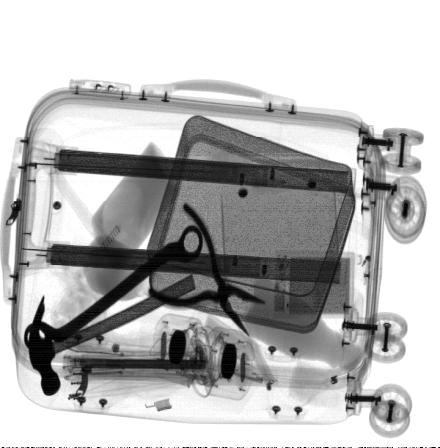Hammer: (27, 272, 197, 397)
Pliers: (149, 197, 268, 341)
Powerbank: (271, 250, 355, 319)
Wrench: (25, 226, 205, 350)
